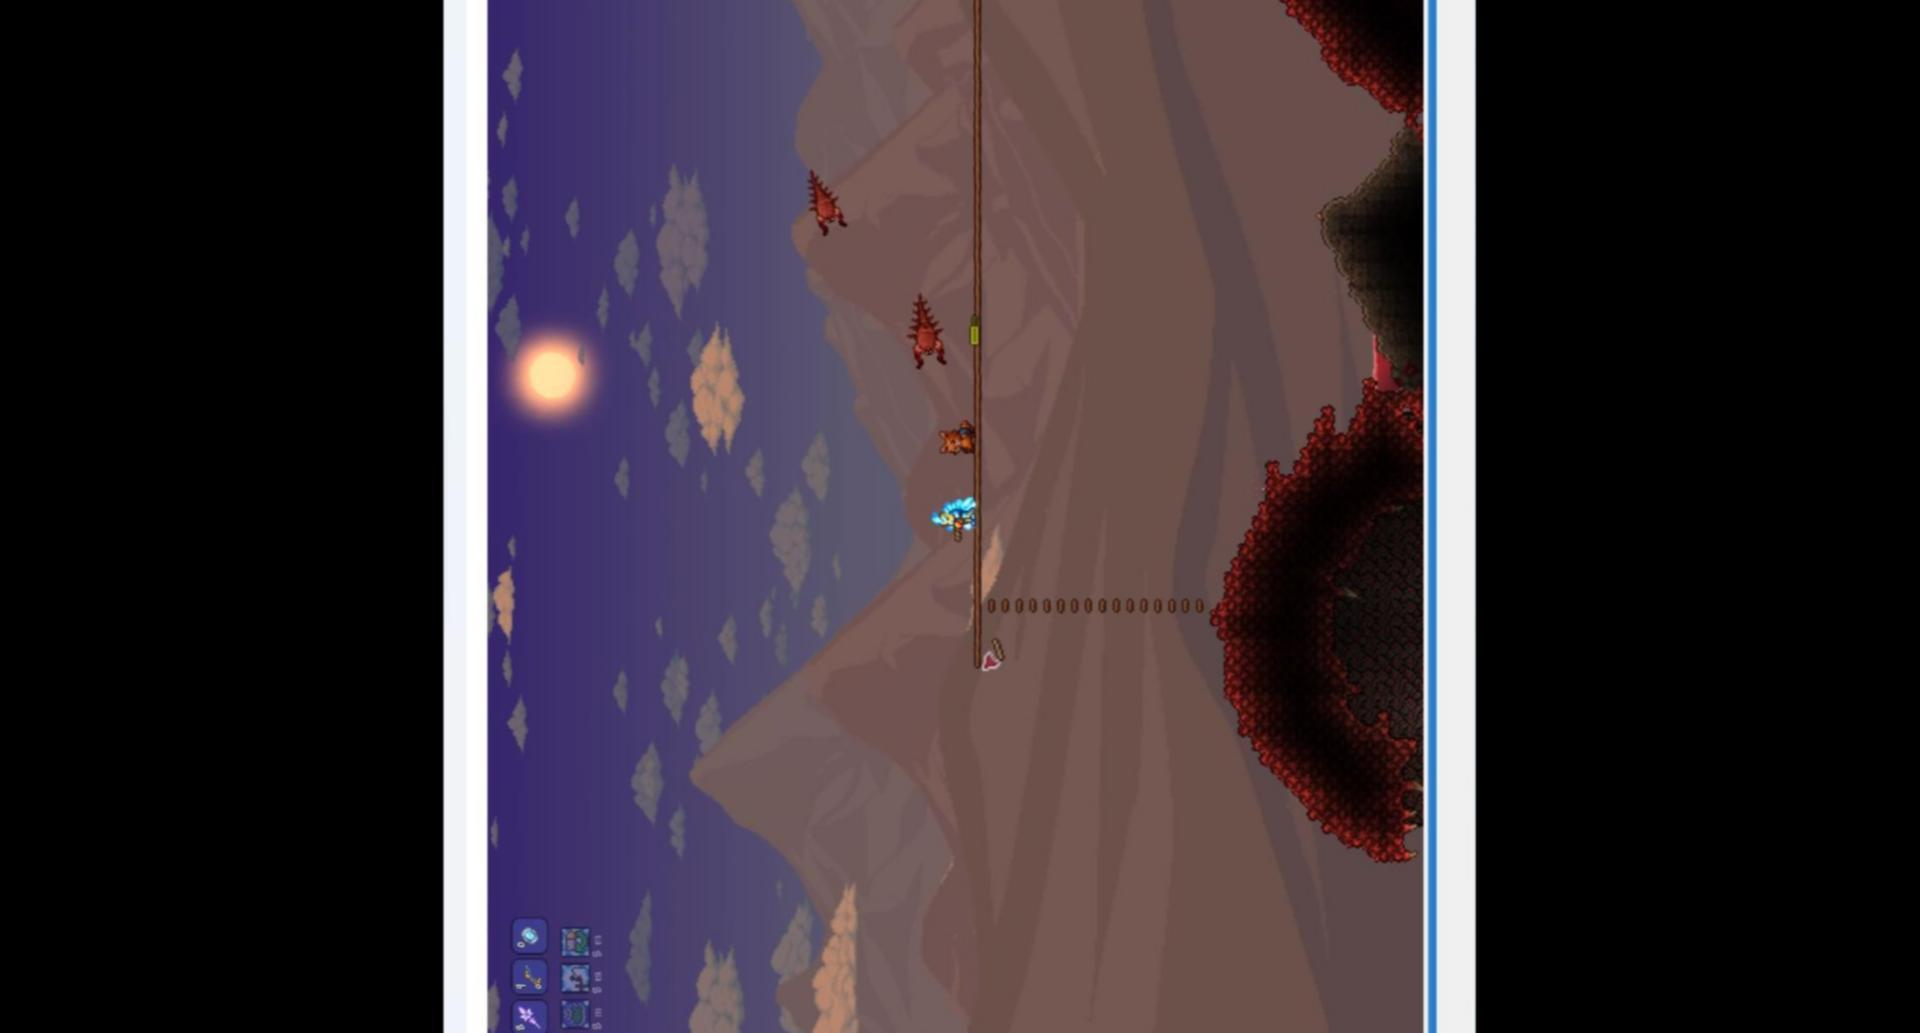crimera: (800, 162, 853, 242), (908, 285, 949, 373)
